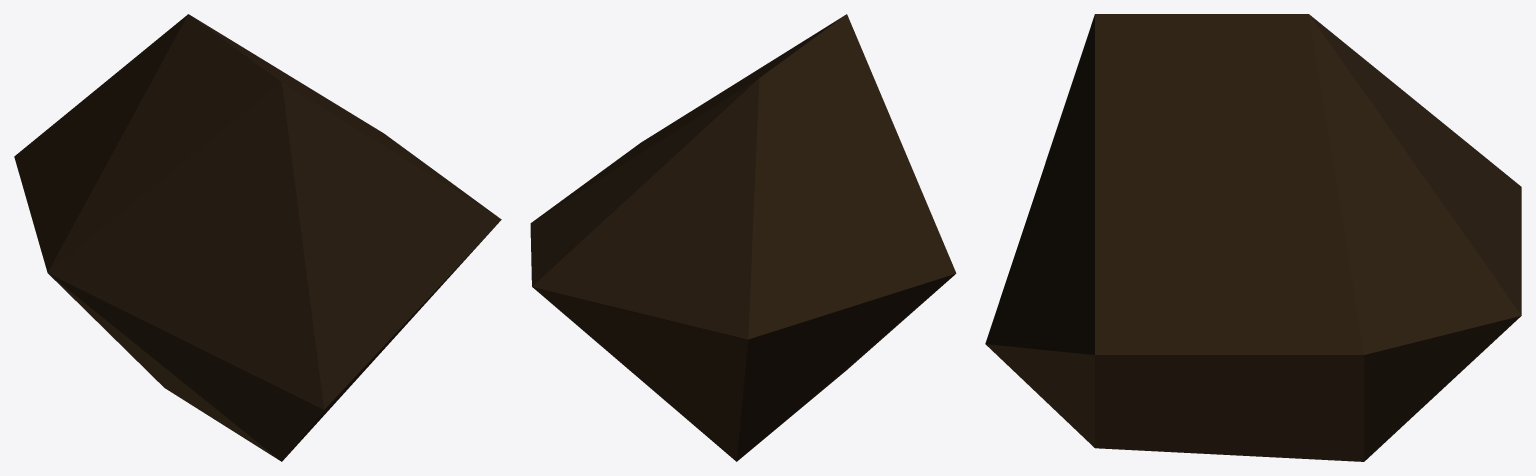
File: Rock.fbx
3 renders of one model, left to right at view 1: azimuth 30°, elevation 25°; view 2: azimuth 150°, elevation 25°; view 3: azimuth 270°, elevation 25°, orthographic. The views are drawn at different scales.
Parts seen in each view (by area): view 1: Cube; view 2: Cube; view 3: Cube.
Part boxes in pixels (box(x1,y1,x2,y2)): Cube: box(14, 14, 501, 461); Cube: box(530, 14, 956, 461); Cube: box(985, 14, 1521, 461).
Size of the model in its own units: 261 by 247 by 268.
